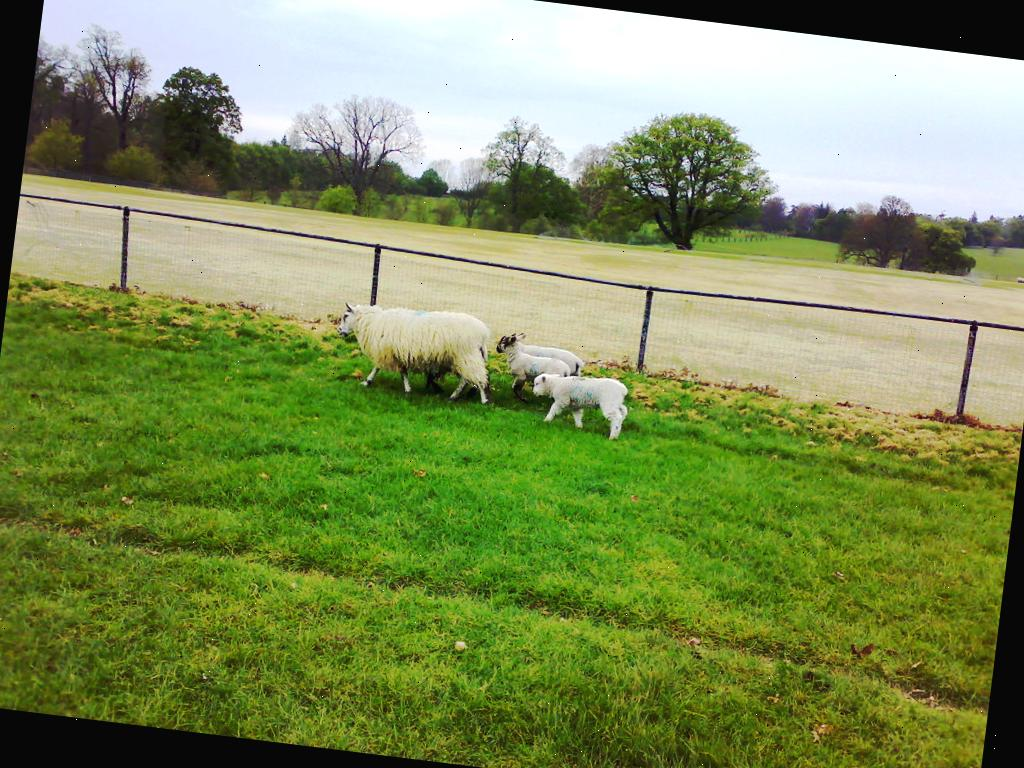Sheep: (330, 297, 498, 410), (524, 367, 636, 446), (489, 328, 579, 410), (509, 328, 588, 384)
